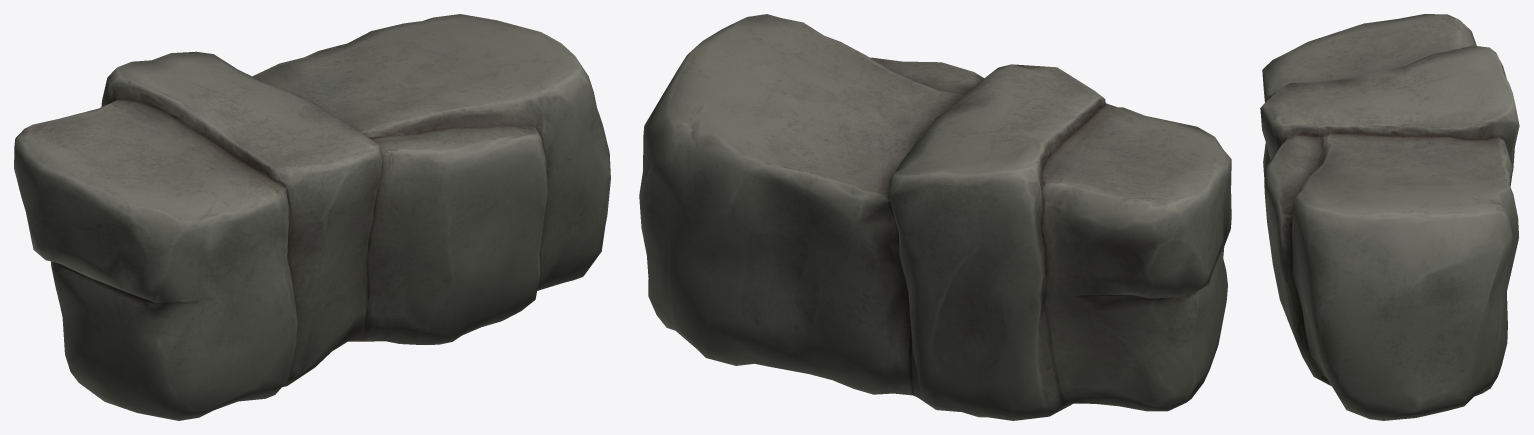
Rendered from rock.glb.
3 views of the same model, side by side, from view 1: azimuth 30°, elevation 25°; view 2: azimuth 150°, elevation 25°; view 3: azimuth 270°, elevation 25° (orthographic). The views are drawn at different scales.
Visible parts, largest first — view 1: Stylized Rock 02; view 2: Stylized Rock 02; view 3: Stylized Rock 02.
Boxes of the visible parts, x1,y1,x2,y2 form: Stylized Rock 02: [14, 14, 610, 420]; Stylized Rock 02: [639, 14, 1231, 420]; Stylized Rock 02: [1260, 14, 1519, 420].
Size of the model in its own units: 9.57 by 4.59 by 4.7.
1 material, 1 textured.
